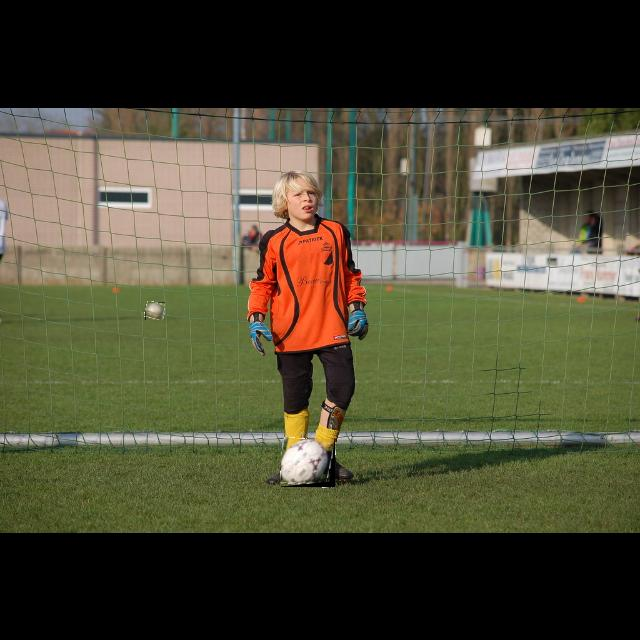Football: (281, 439, 335, 487), (145, 302, 165, 320)
